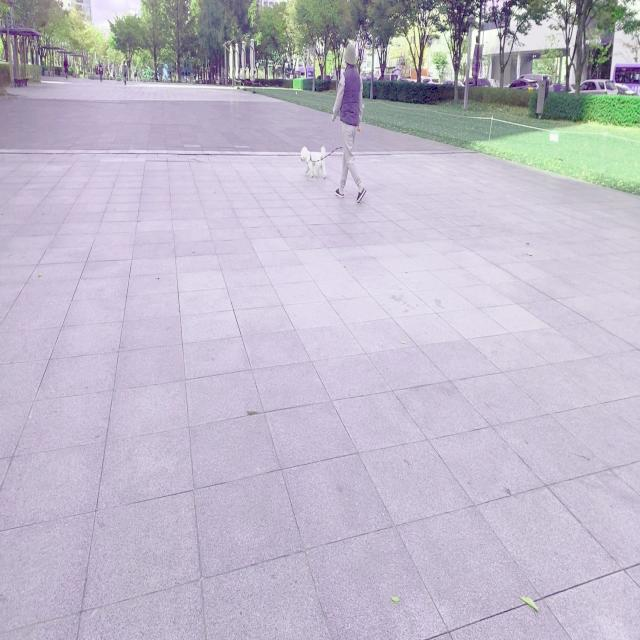Leashed_Dog: (299, 127, 351, 181)
